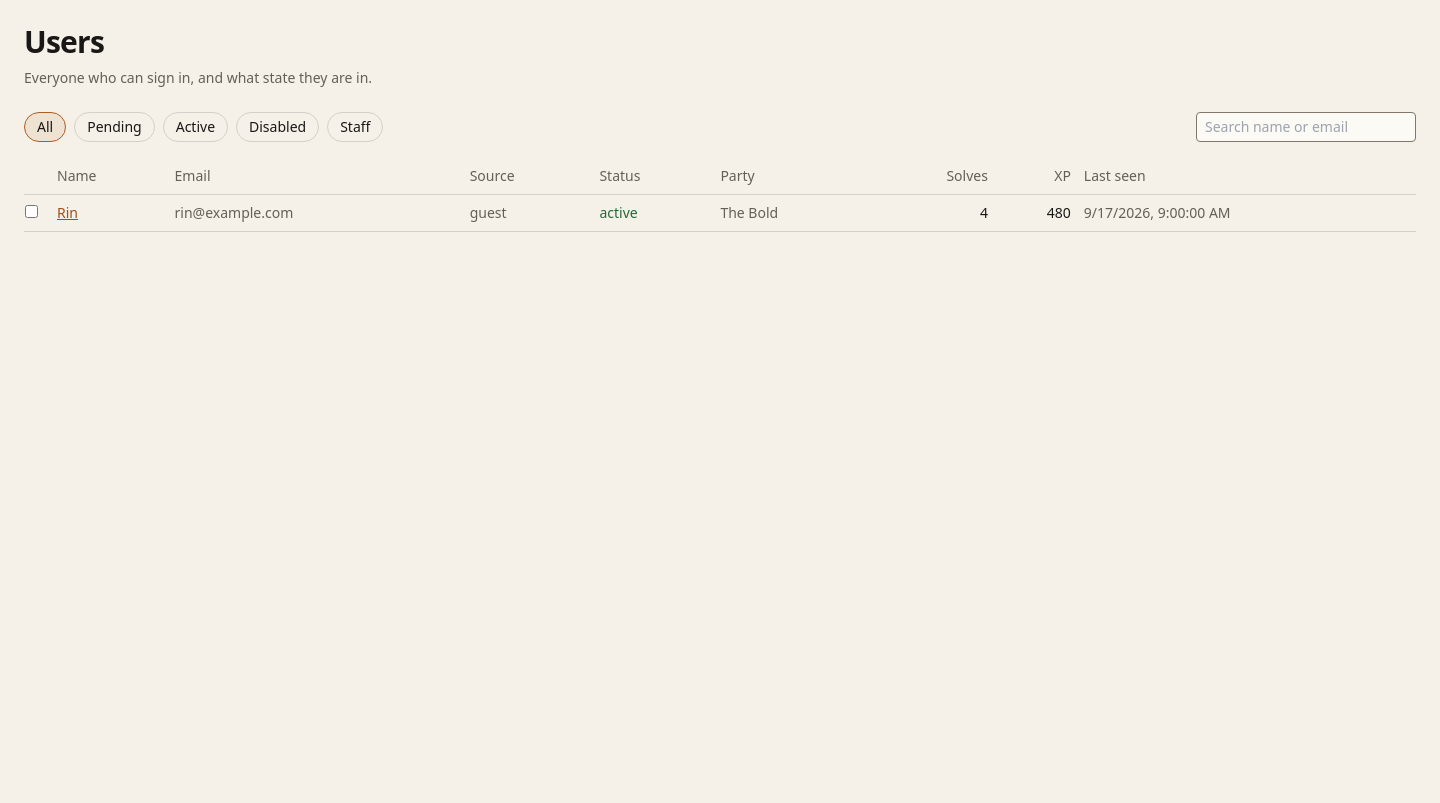
Test case: AdminUsersPage › opens a drawer without moving the list
The width and height of the screenshot is (1440, 803).
Step 1. Click the button "Rin" → (68, 213), box [57, 203, 78, 223]
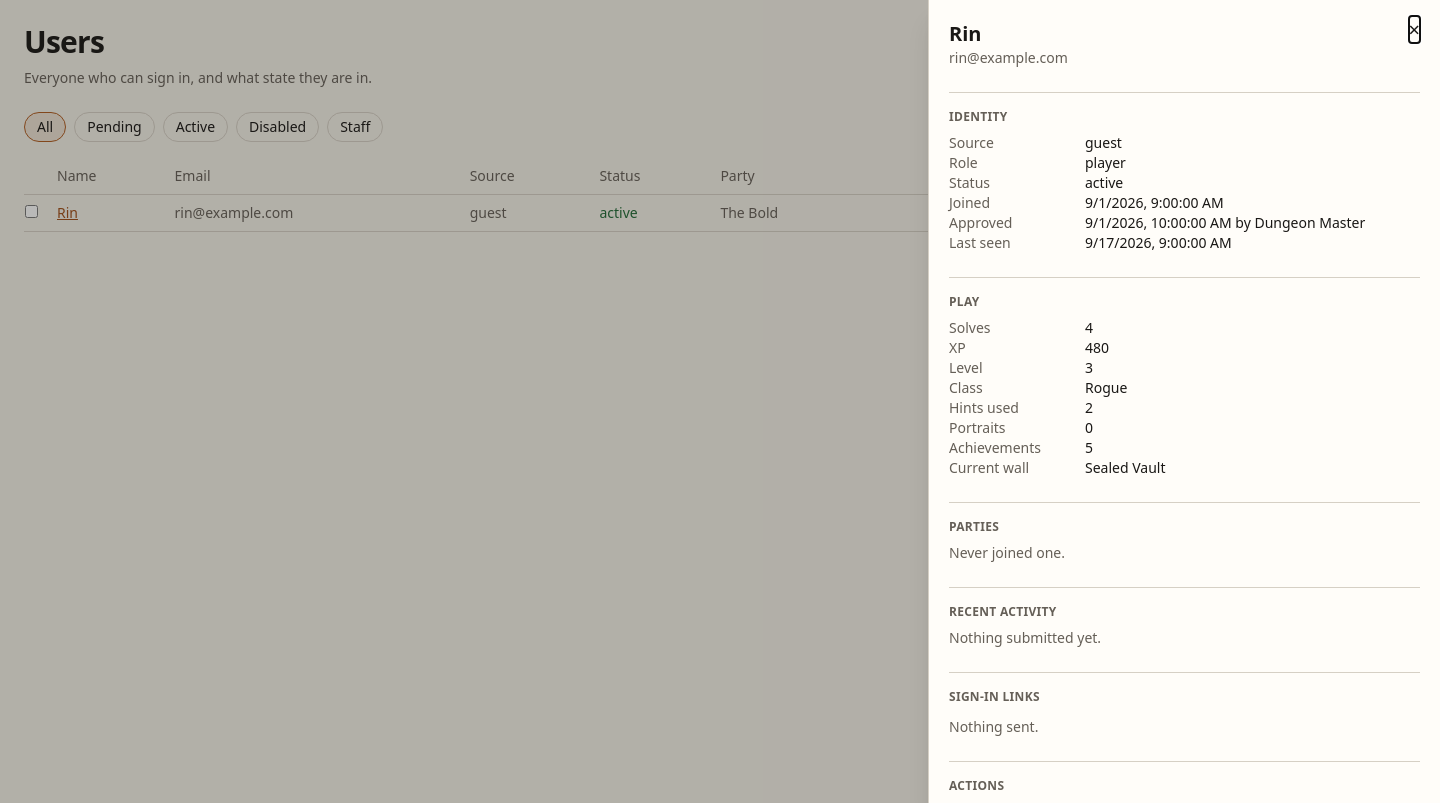
Expected: the table is shown, [24, 158, 1416, 232]
Result: the text "Rogue" is shown at [1085, 378, 1127, 397]
Result: the text "Sealed Vault" is shown at [1085, 458, 1166, 477]
